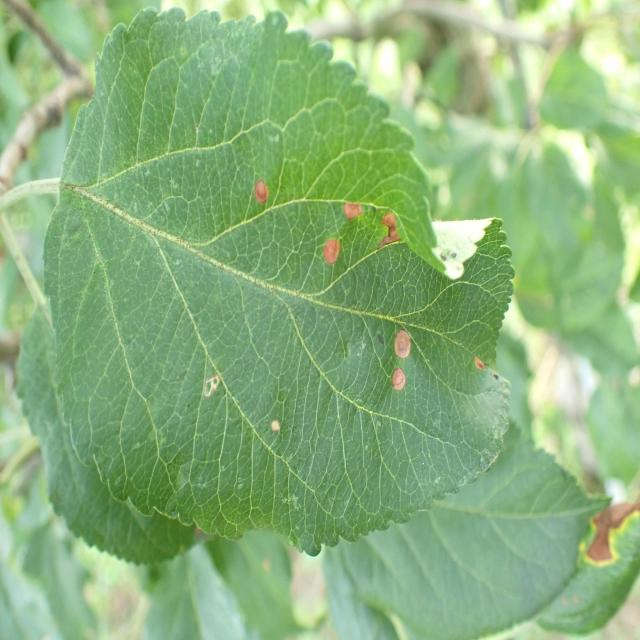Black Rot: (366, 359, 432, 425), (192, 362, 232, 422), (312, 219, 344, 284), (375, 323, 420, 367), (373, 197, 399, 256), (343, 188, 367, 239), (247, 170, 272, 210)
